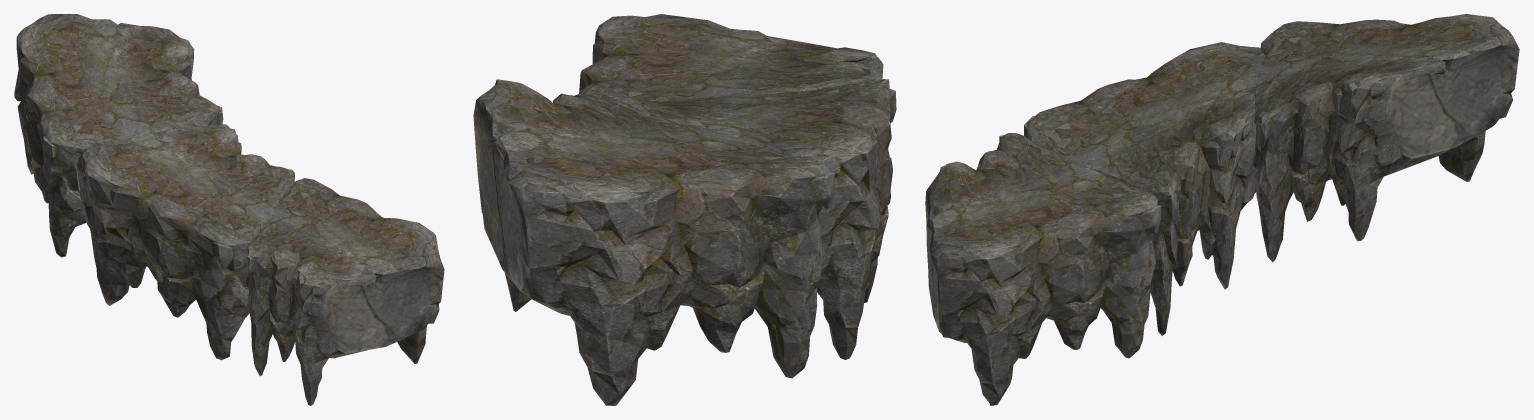
The model's file is bg_anh_mirrorv_dstair02_sm_cwk.FBX.
The picture shows the model from 3 angles, left to right: view 1: azimuth 30°, elevation 25°; view 2: azimuth 150°, elevation 25°; view 3: azimuth 270°, elevation 25°; orthographic projection. The views are drawn at different scales.
Visible parts, largest first — view 1: bg_anh_mirrorv_dstair02_sm_cwk; view 2: bg_anh_mirrorv_dstair02_sm_cwk; view 3: bg_anh_mirrorv_dstair02_sm_cwk.
Boxes of the visible parts, left/top/right/bottom form: bg_anh_mirrorv_dstair02_sm_cwk: left=14, top=14, right=444, bottom=405; bg_anh_mirrorv_dstair02_sm_cwk: left=473, top=14, right=896, bottom=405; bg_anh_mirrorv_dstair02_sm_cwk: left=925, top=14, right=1519, bottom=405.
Size of the model in its own units: 817 by 689 by 1310.
